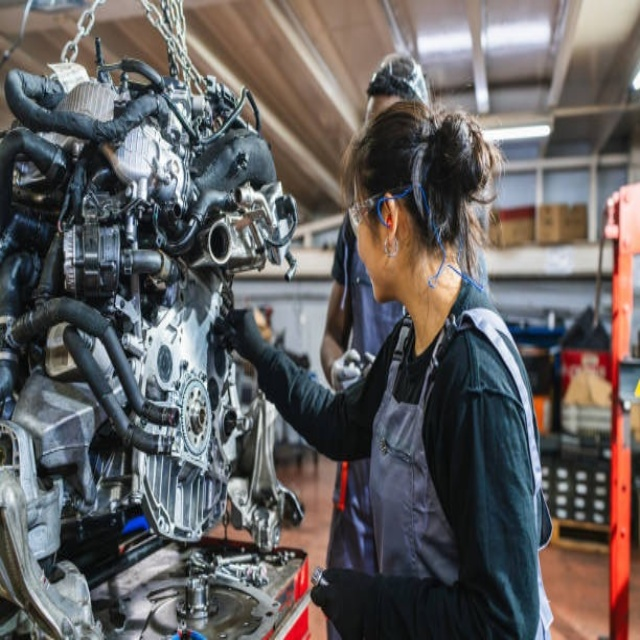Gafas: (348, 180, 414, 232)
Guantes: (312, 567, 380, 640), (216, 307, 268, 368)
